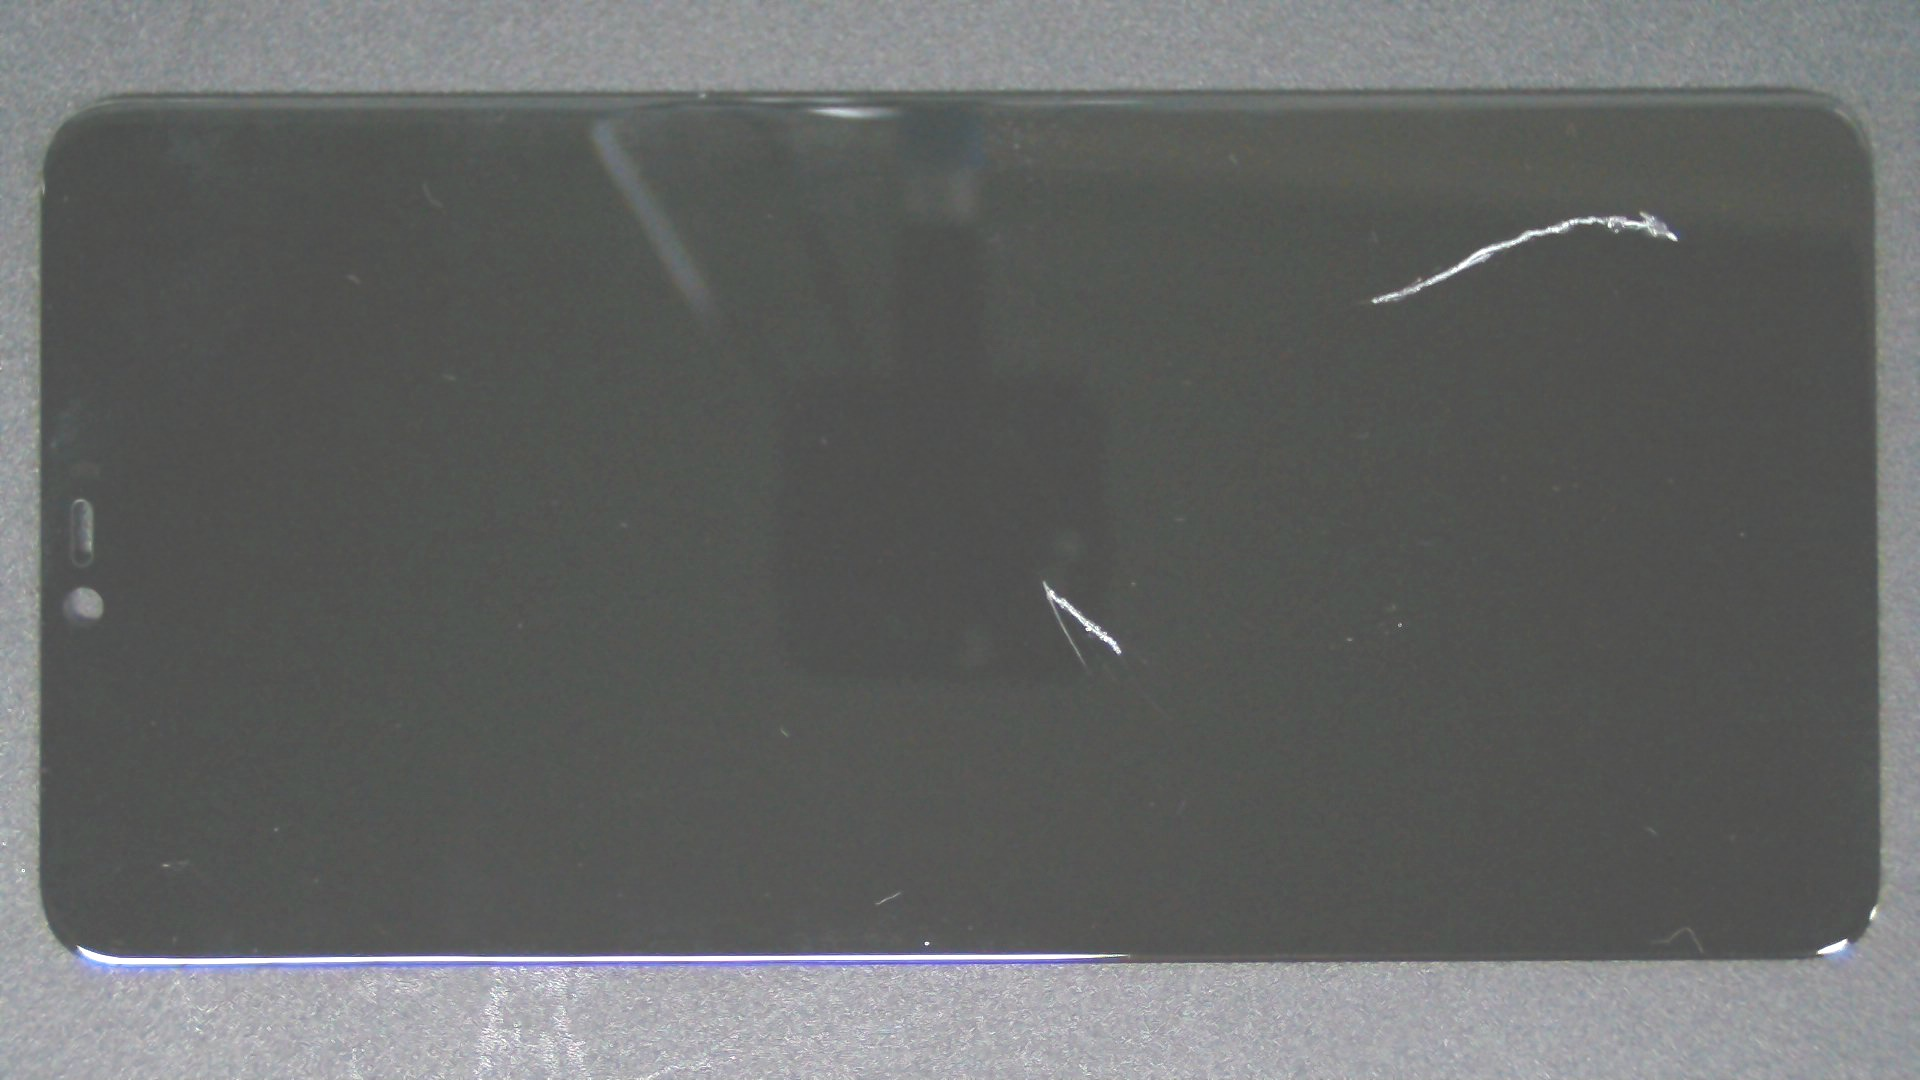oil: (521, 287, 1563, 873), (820, 104, 1920, 315)
